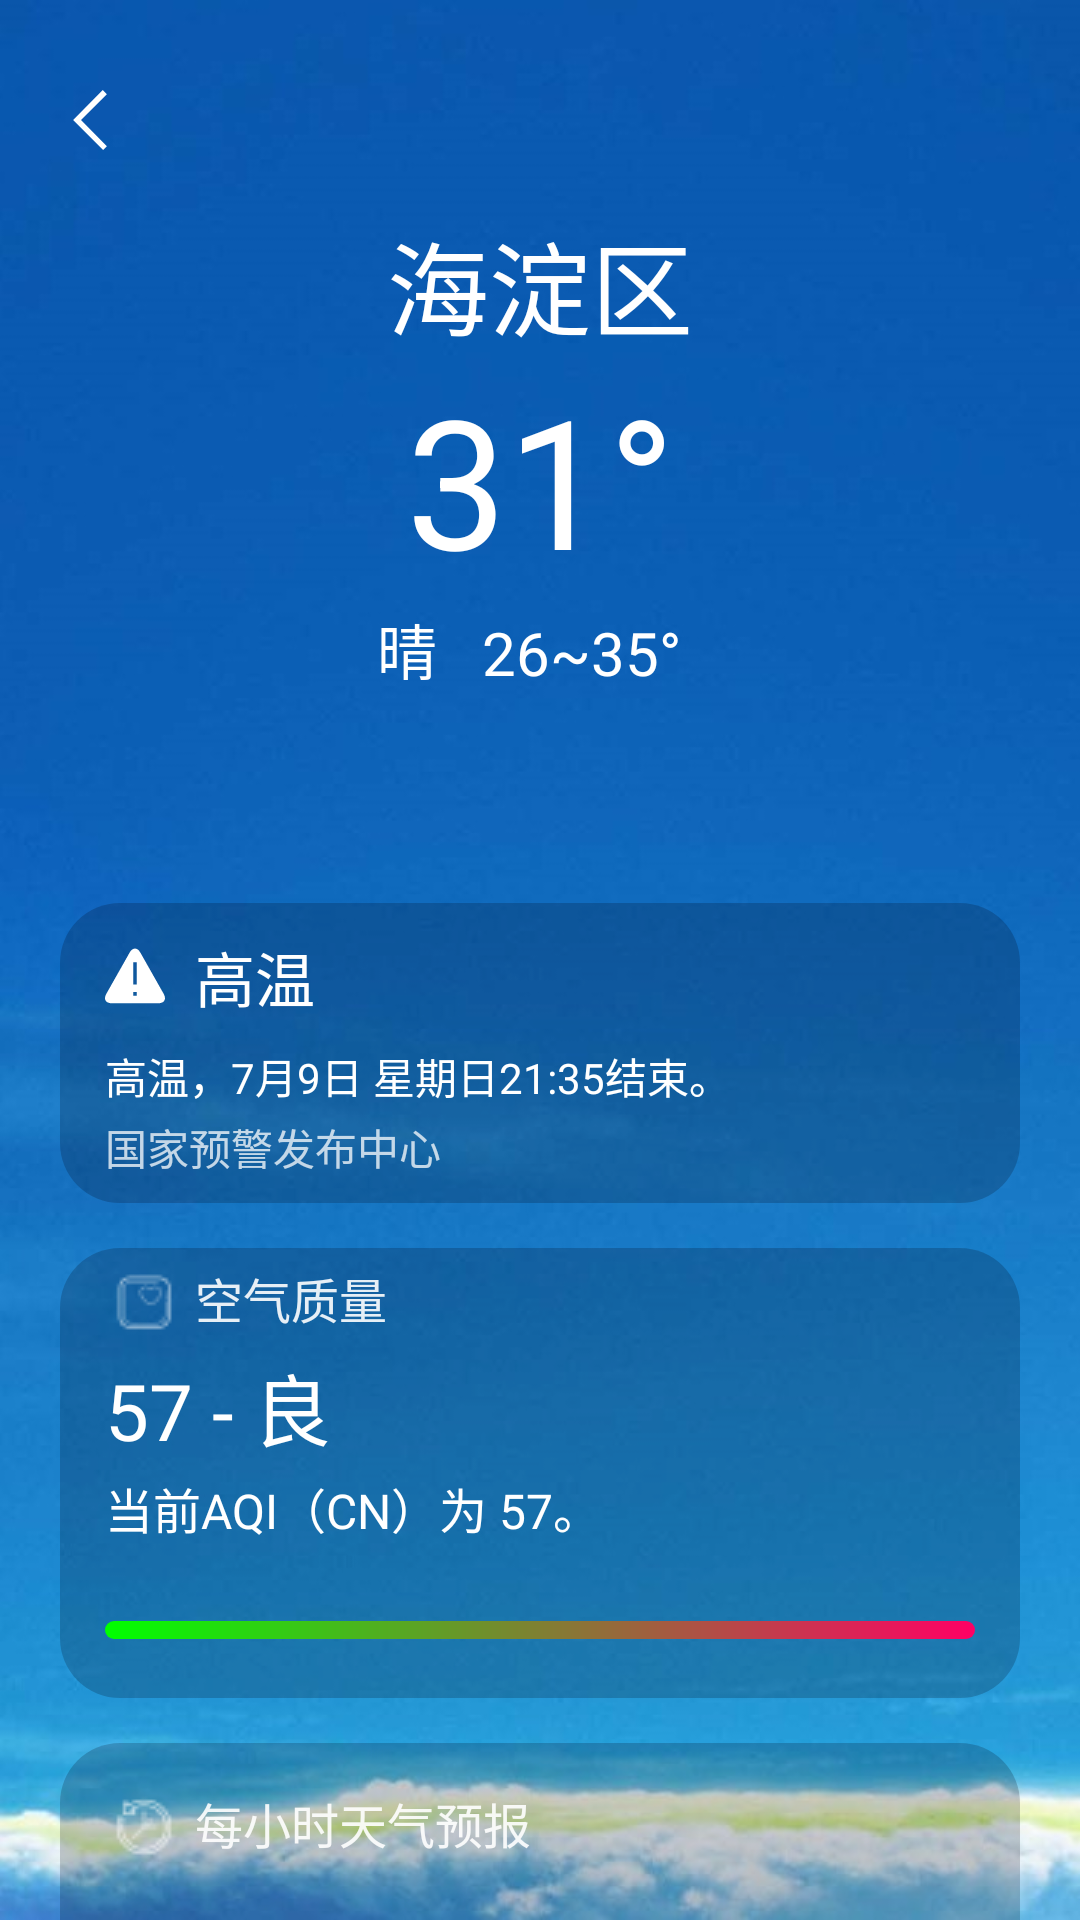

Where to tap for icons on this 1080*1920 app screen, as point (x, y):
back: point (90, 120)
